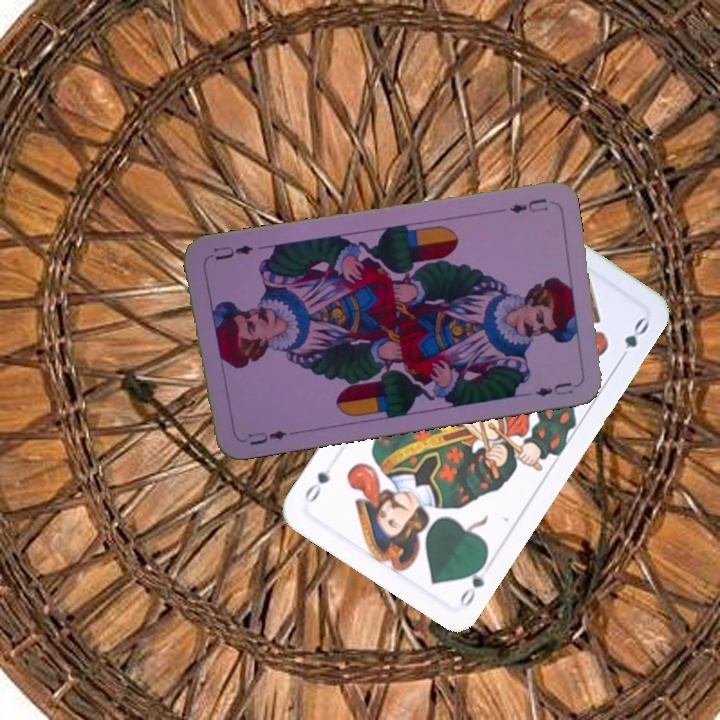EU: (505, 194, 551, 216), (244, 426, 289, 448)
GO: (455, 554, 490, 610)
